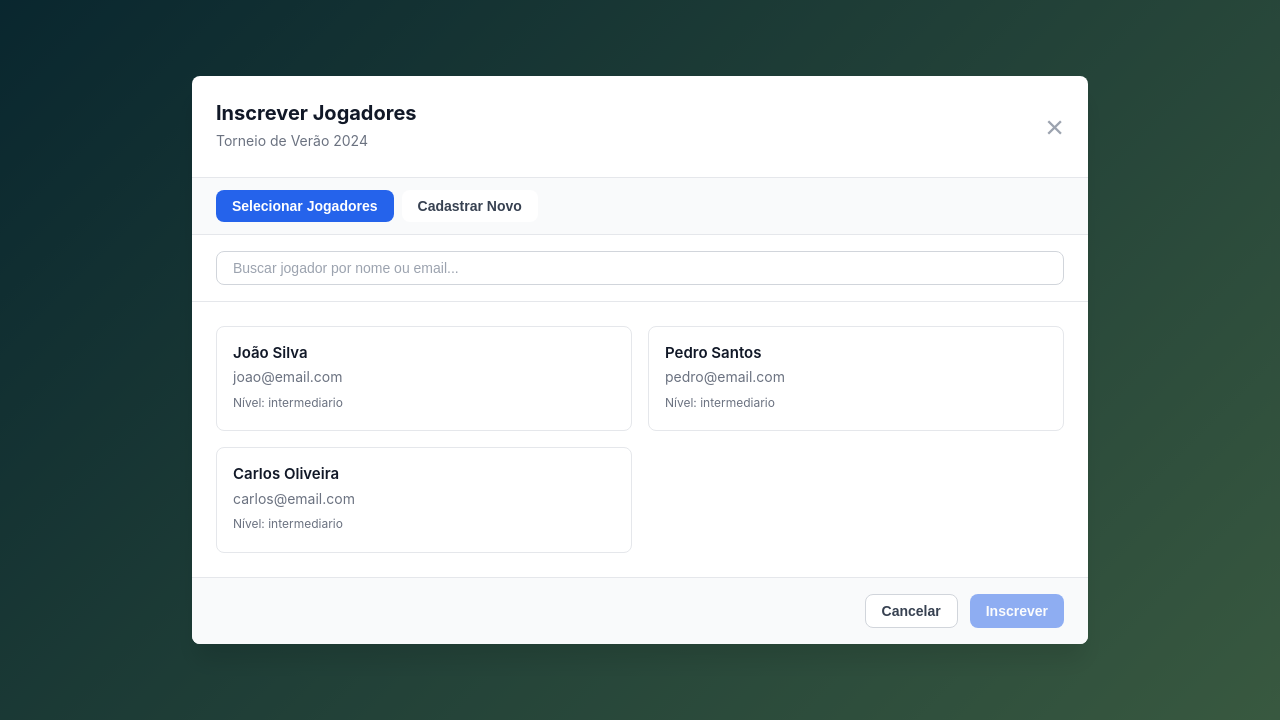
Test: ModalInscricao › tabs de navegação › deve voltar para aba de seleção
Click the button "Cadastrar Novo" at (470, 206), box [402, 190, 538, 222]
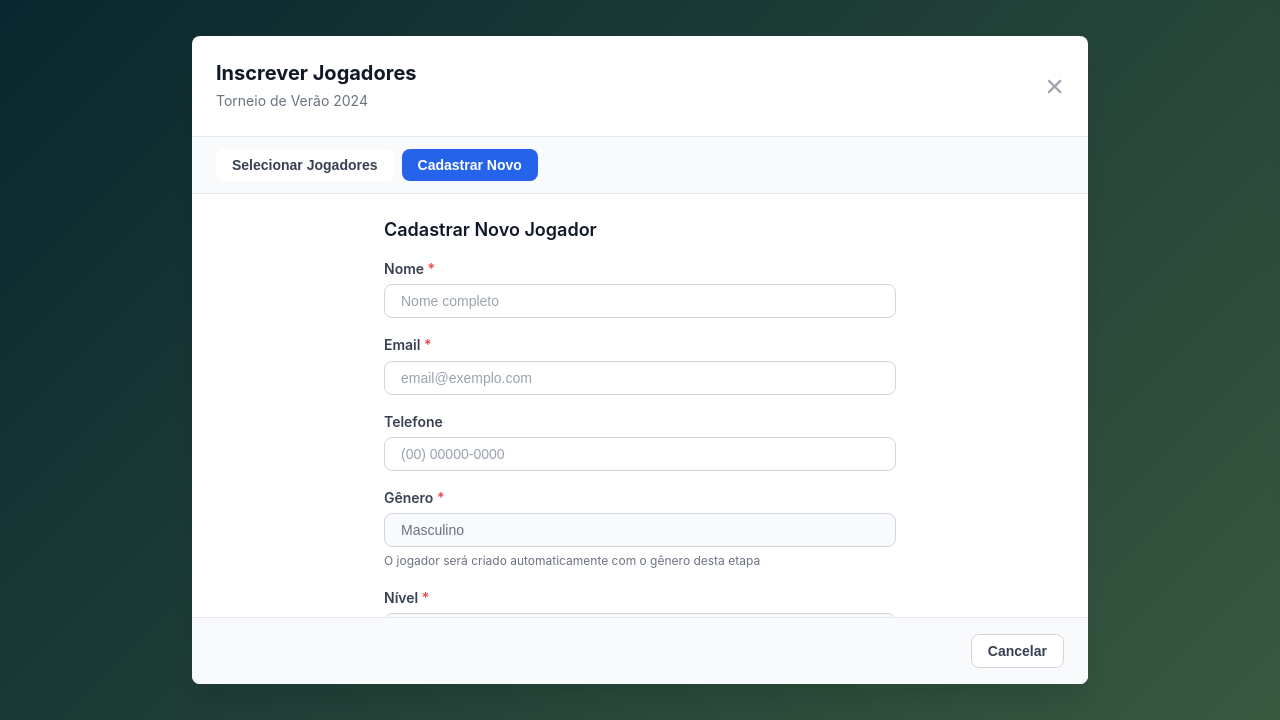
Click the button "Selecionar Jogadores" at (305, 165), box [216, 149, 394, 181]
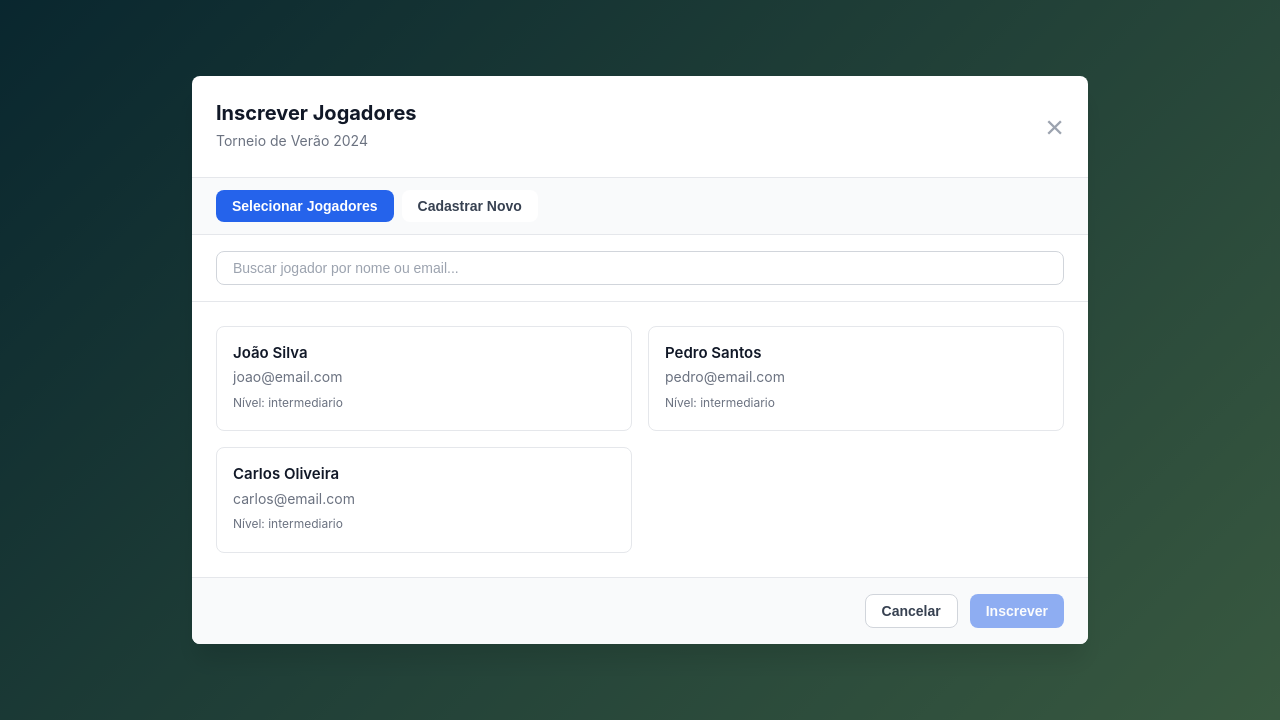
Now the field with placeholder "Buscar jogador por nome ou email..." is shown, box [216, 251, 1064, 285]
